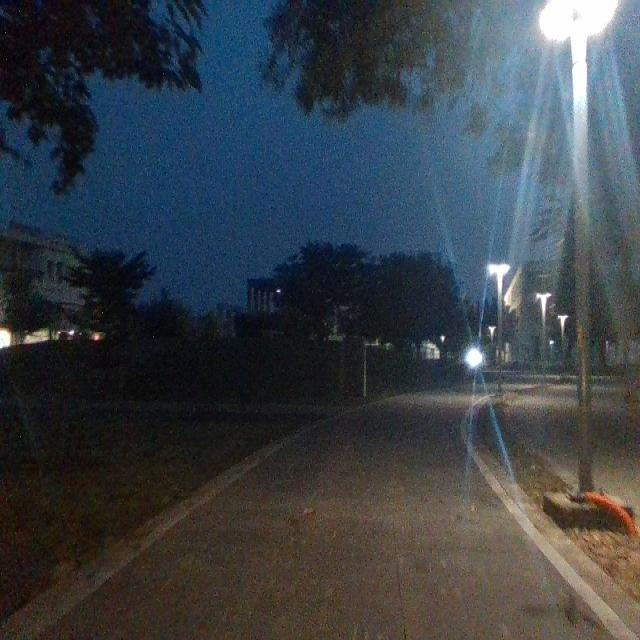lane: (35, 395, 617, 640)
